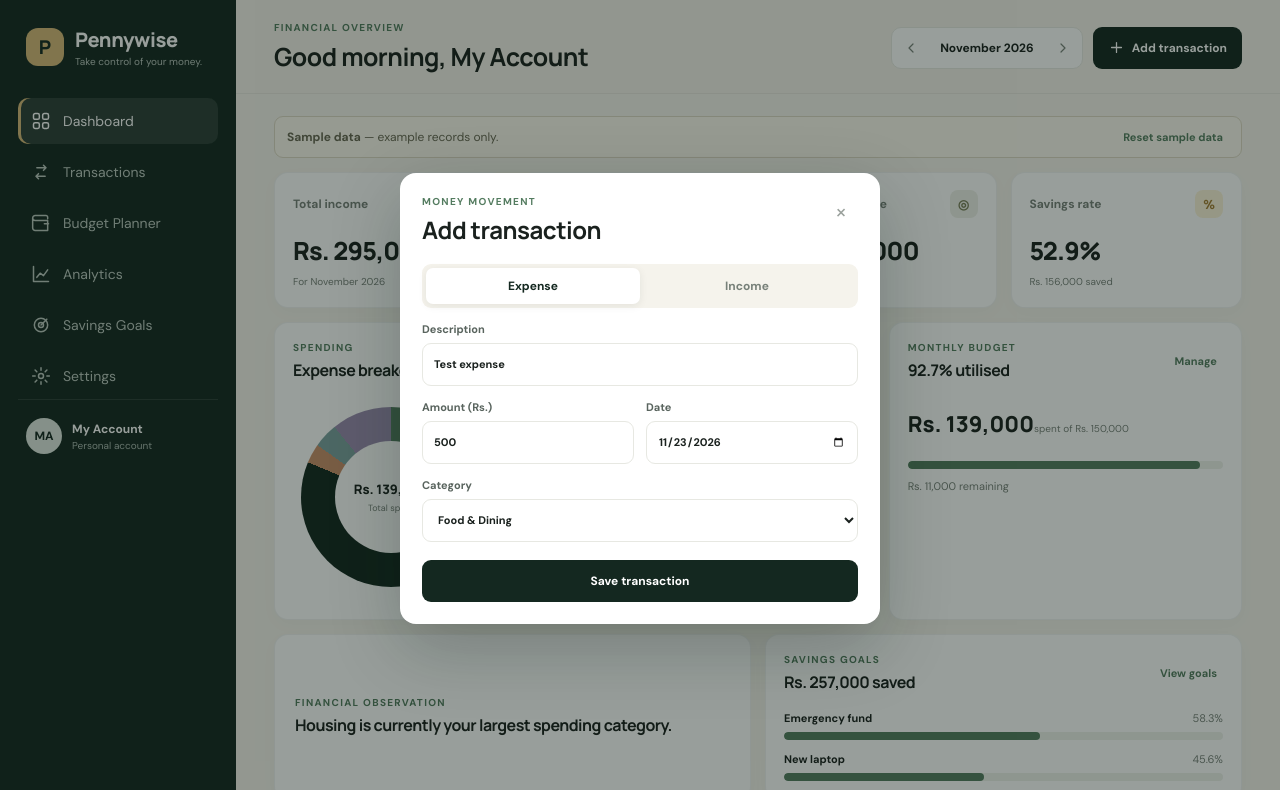
Test: adds and deletes expense and income transactions
Earlier steps of the test are not shown.
Select "Entertainment" in the dropdown labelled "Category" at (640, 520), box x1=422 y1=498 x2=858 y2=542
Click the button "Save transaction" at (640, 580), box x1=422 y1=560 x2=858 y2=602
(page scrolled)
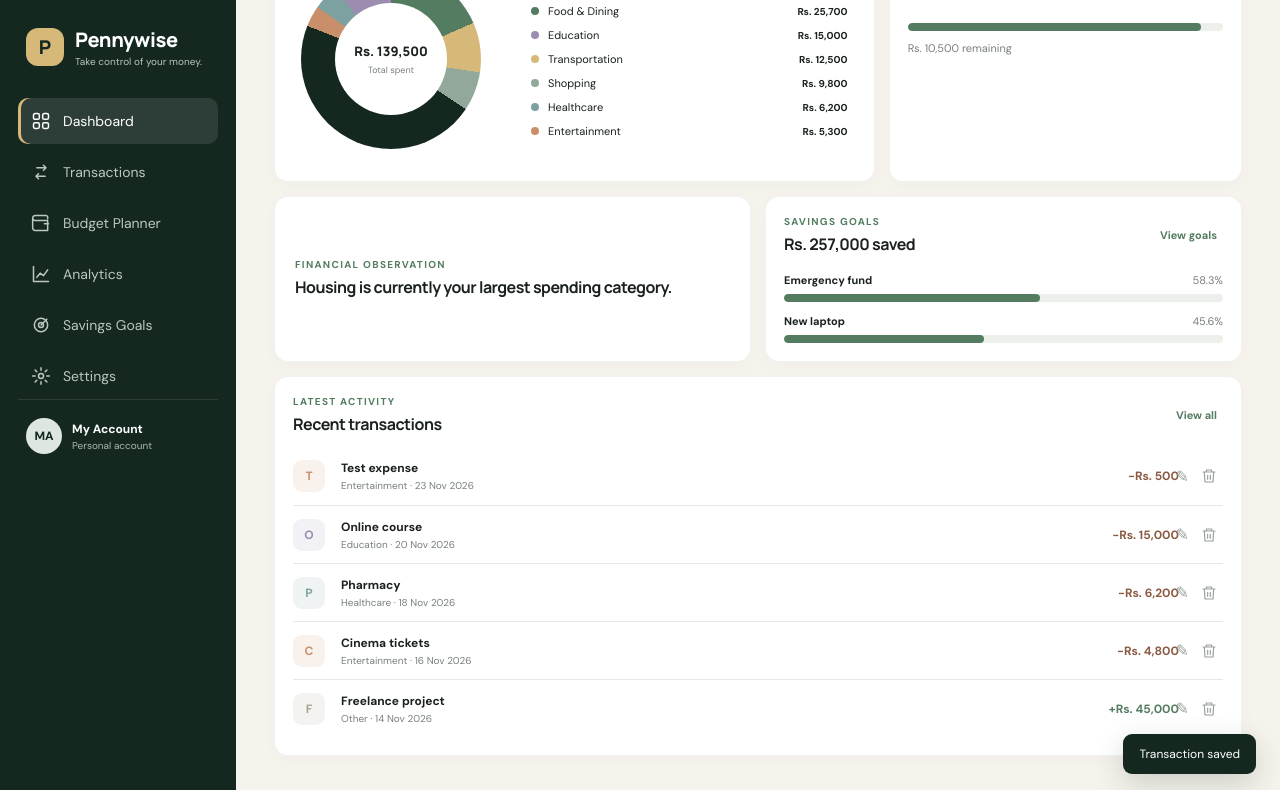
Click the button named "Delete Test expense" at (1209, 476), box x1=1195 y1=460 x2=1223 y2=492
(page scrolled)
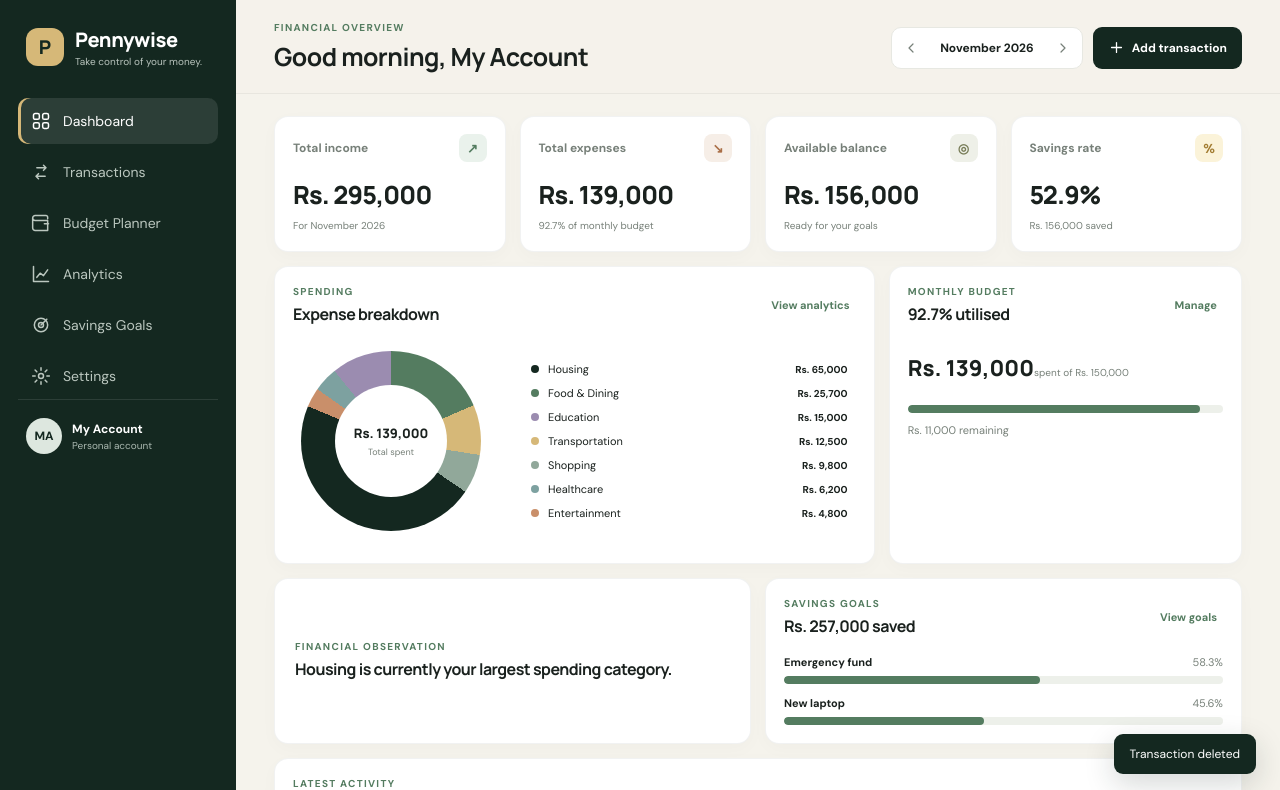
Check: the text "Rs. 139,500" is gone
Click the button "Add transaction" at (1167, 48), box x1=1093 y1=26 x2=1242 y2=68
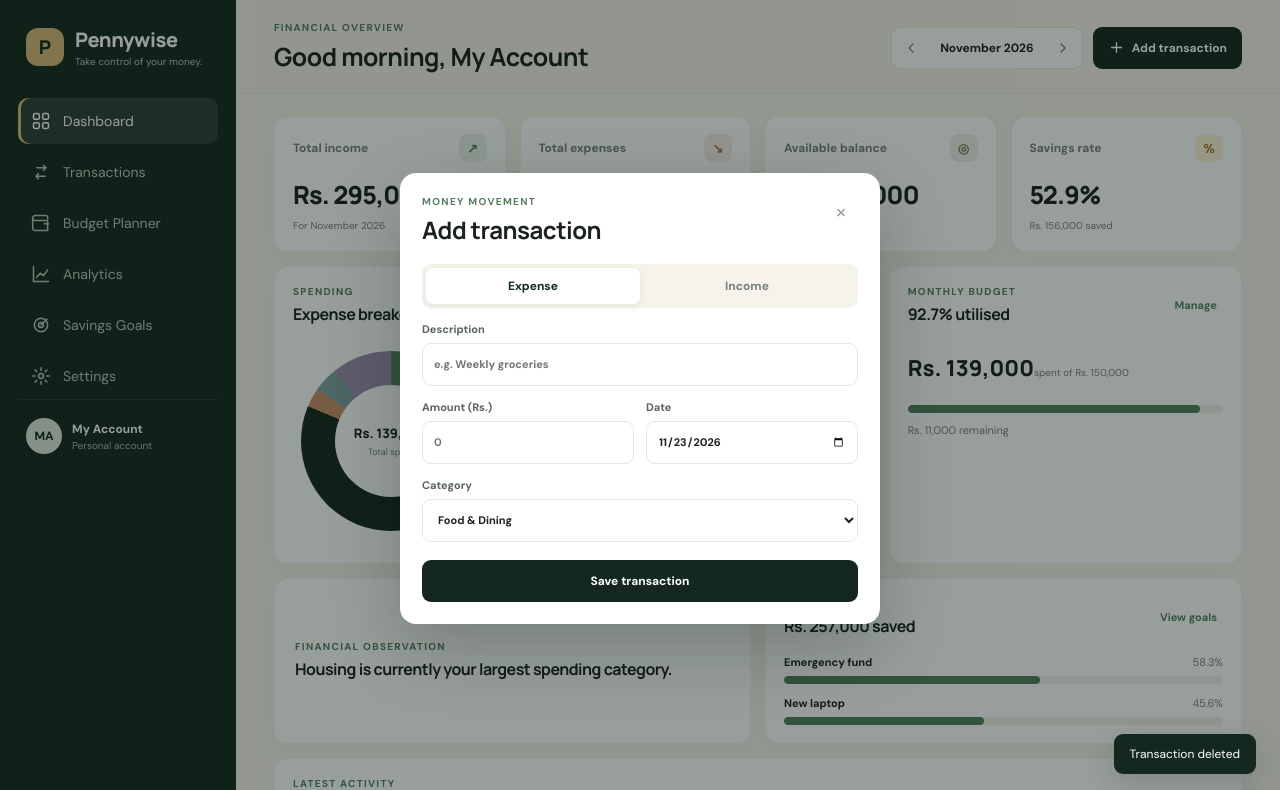
Type "Bonus income" into the field labelled "Description" at (640, 364), box x1=422 y1=342 x2=858 y2=386
Type "10000" into the number field labelled "Amount (Rs.)" at (528, 442), box x1=422 y1=420 x2=634 y2=464
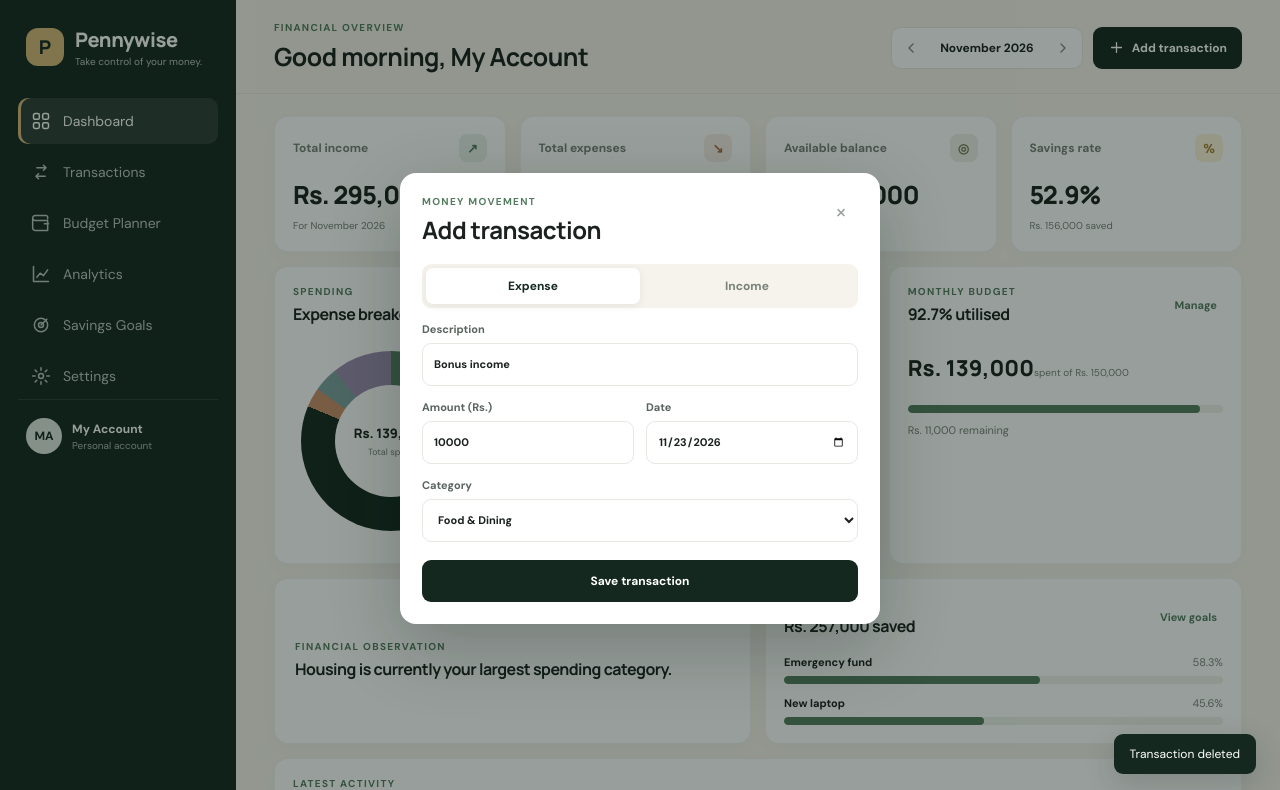
Click the text "Income" at (747, 286), box x1=725 y1=278 x2=769 y2=294
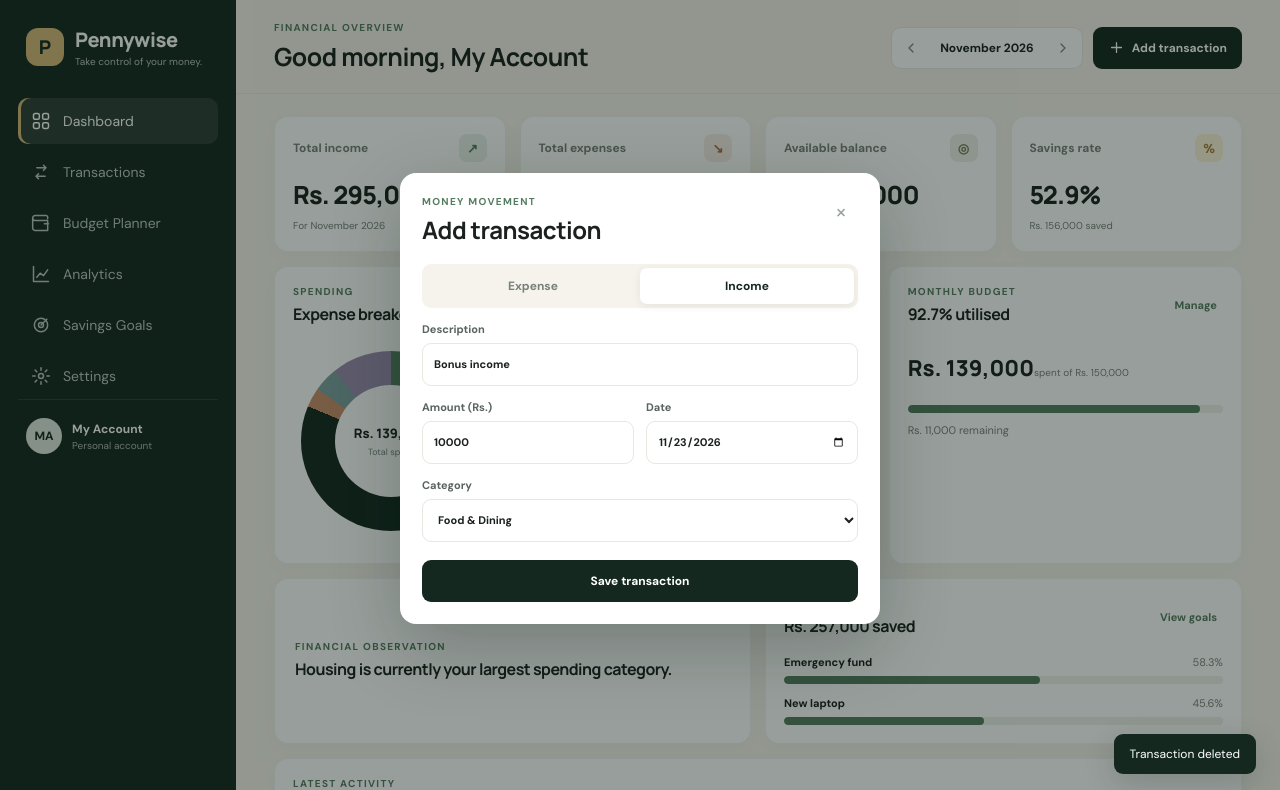
Click the button "Save transaction" at (640, 580), box x1=422 y1=560 x2=858 y2=602
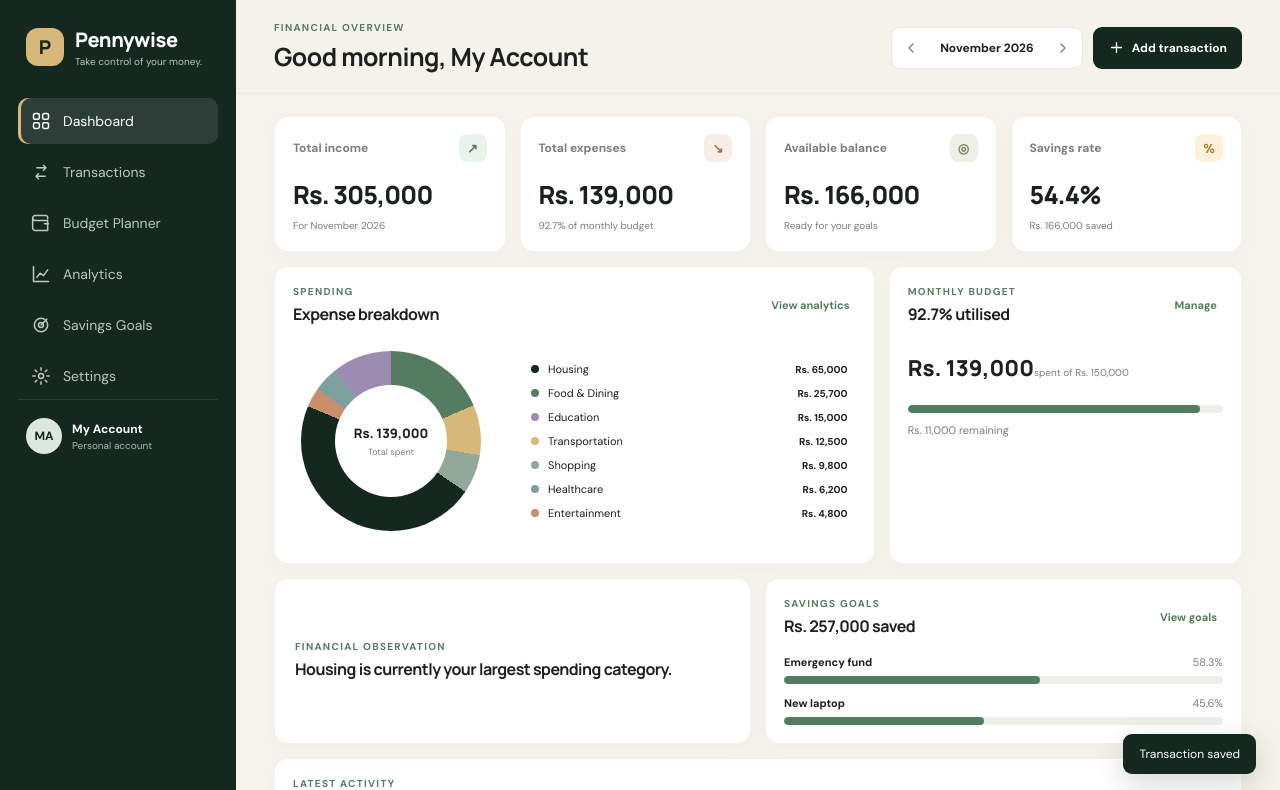
Check: the text "Rs. 305,000" is shown, box x1=293 y1=177 x2=432 y2=212
